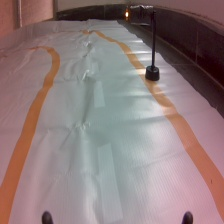yellow: (123, 2, 161, 83)
